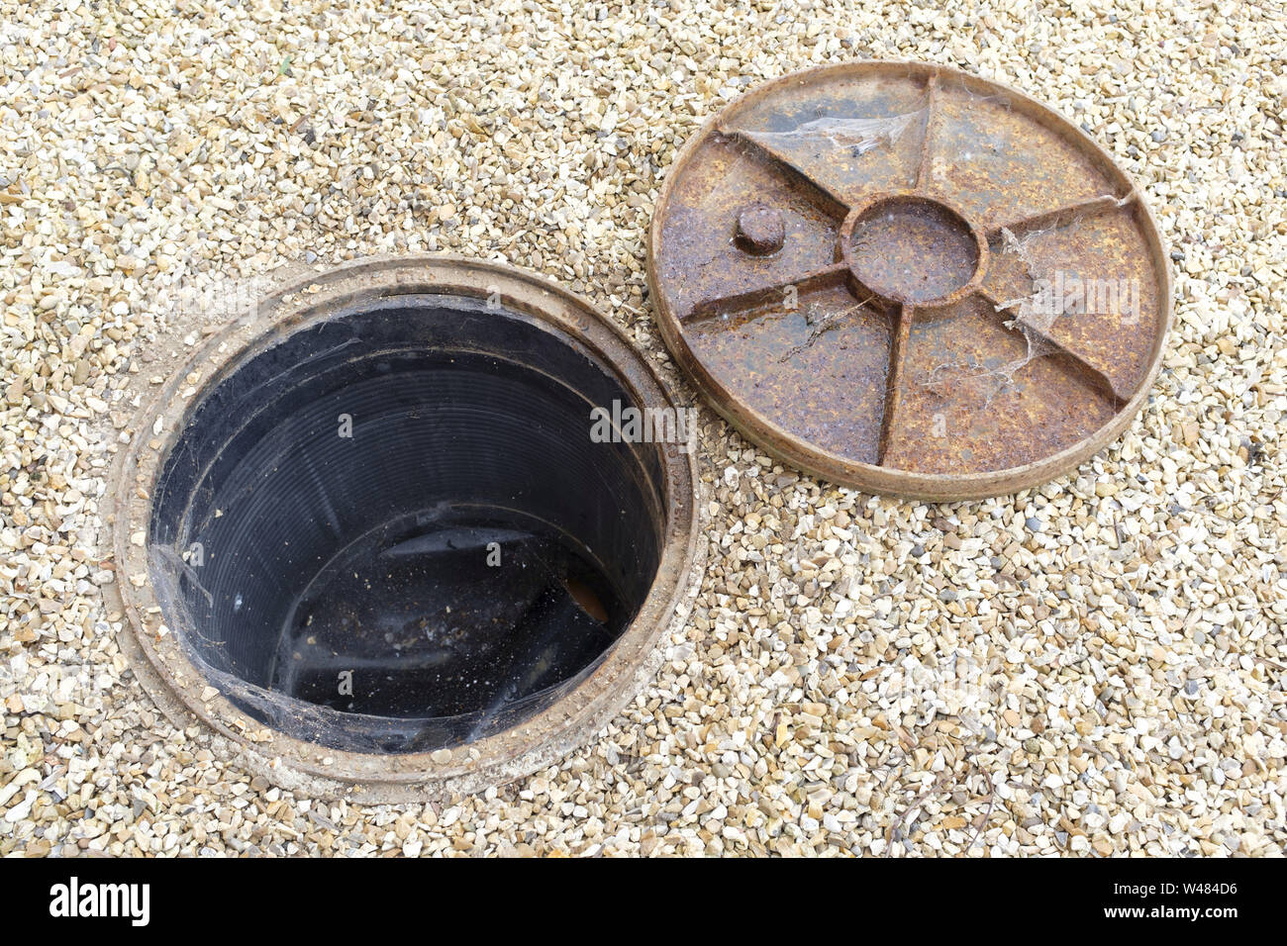Open_manhole: (59, 56, 1230, 780)
